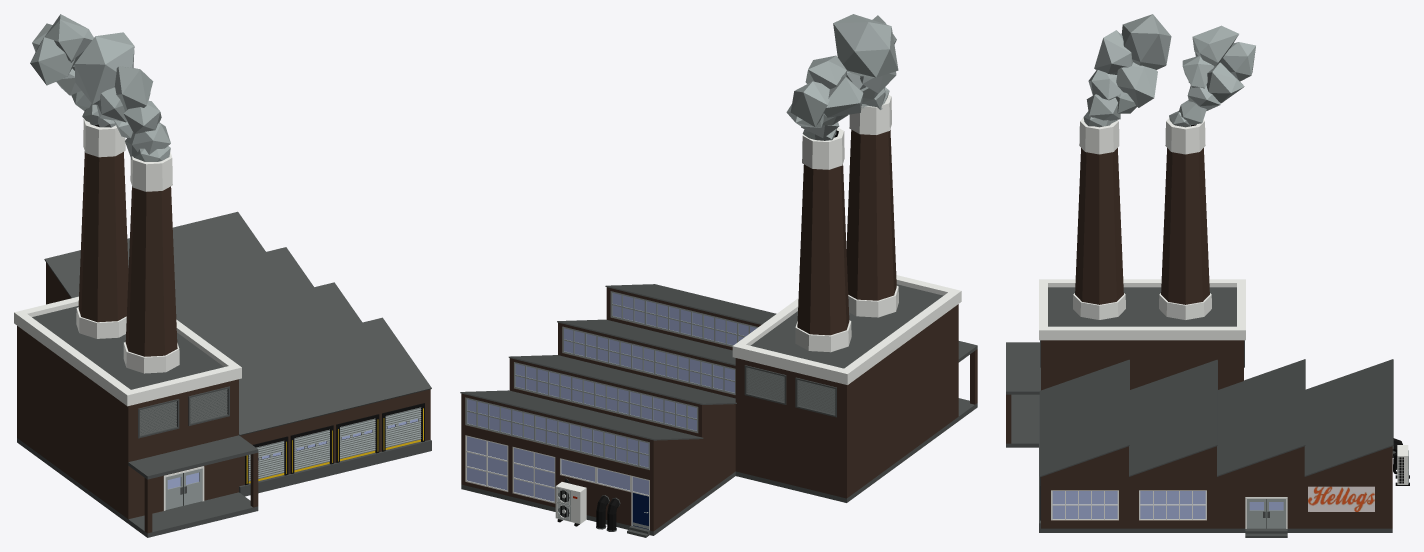
Rendered from Factory.fbx.
3 views of the same model, side by side, from view 1: azimuth 30°, elevation 25°; view 2: azimuth 150°, elevation 25°; view 3: azimuth 270°, elevation 25° (orthographic). The views are drawn at different scales.
Parts seen in each view (by area): view 1: Factory; view 2: Factory; view 3: Factory.
Boxes of the visible parts, bbox=[...] form: Factory: bbox=[14, 14, 431, 537]; Factory: bbox=[460, 14, 977, 537]; Factory: bbox=[1006, 14, 1409, 537].
Size of the model in its own units: 1018 by 1344 by 1238.
